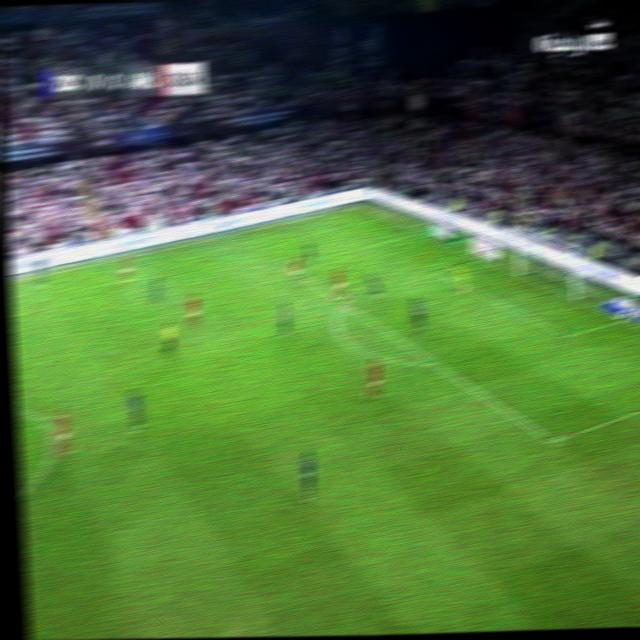bigarea_bottom_inner: (542, 429, 564, 451)
bigarea_top_inner: (278, 256, 296, 272)
bigarea_top_outter: (409, 224, 427, 237)
bottom_arc_area_intersection: (423, 354, 443, 370)
smallarea_bottom_inner: (558, 325, 578, 343)
smallarea_bottom_outter: (615, 311, 631, 326)
smallarea_top_inner: (429, 262, 444, 276)
smallarea_top_outter: (471, 250, 489, 265)
top_arc_area_intersection: (334, 294, 354, 311)
